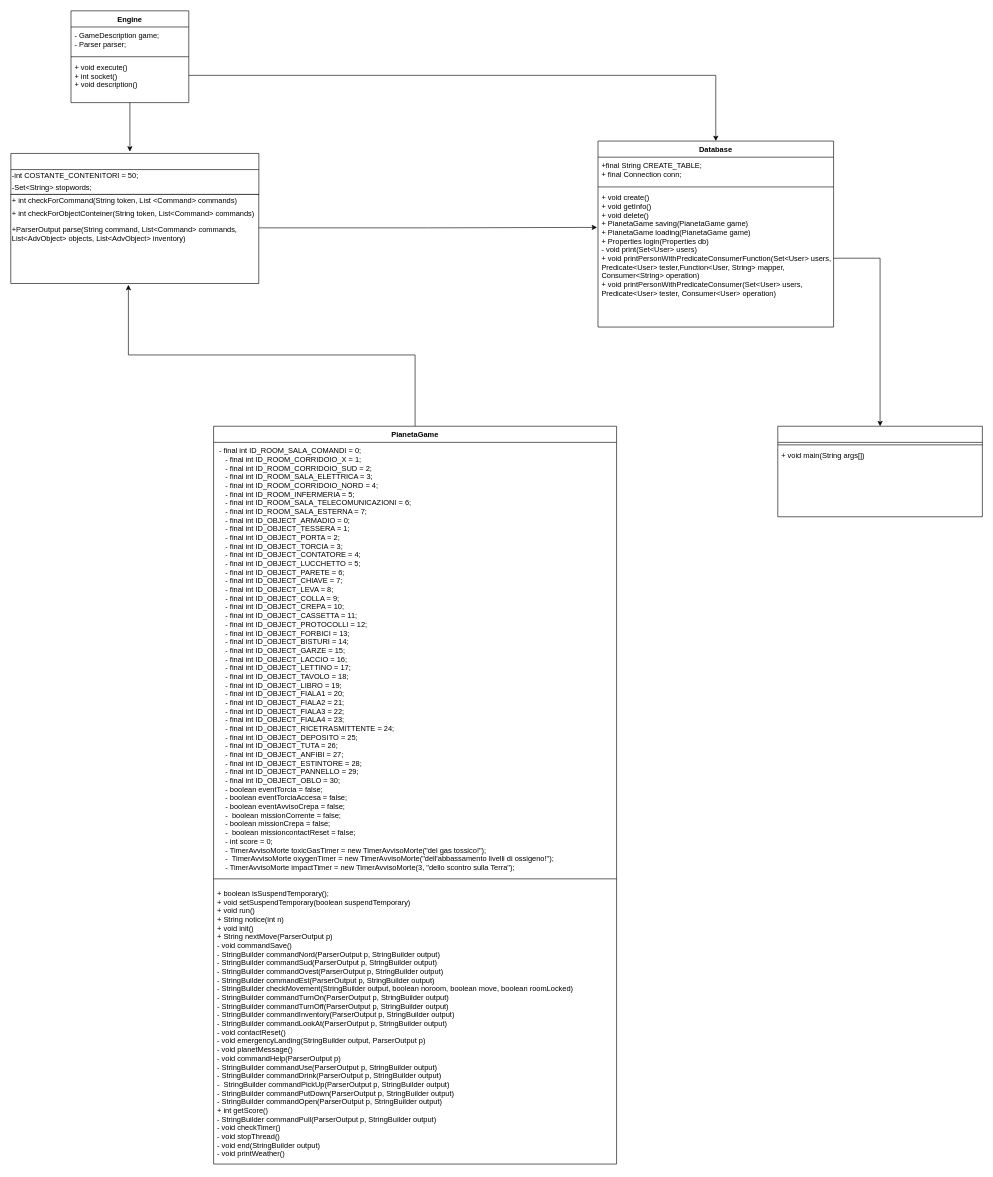
The diagram is 993 pixels wide and 1177 high, and some of its shapes have lost their labels. Here are the shapes that lost their labels. From the top down, the box of each, then its label:
(10, 153, 259, 194): Parser
(777, 426, 982, 517): Classname
